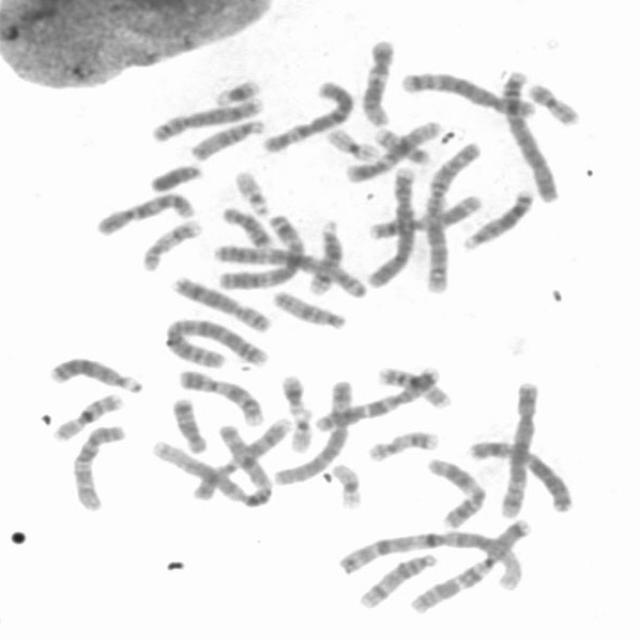A1: (333, 523, 529, 593), (146, 415, 284, 509)
A2: (419, 136, 485, 294), (158, 313, 272, 369)
A3: (211, 241, 370, 301), (213, 206, 307, 291)
B4: (497, 66, 563, 203), (362, 160, 418, 289)
B5: (396, 65, 538, 118), (496, 376, 544, 520)
C10: (66, 418, 128, 514), (91, 187, 198, 237)
C11: (362, 188, 485, 240), (423, 453, 491, 530)
C12: (339, 116, 443, 184), (355, 34, 397, 128)
C6: (268, 375, 356, 487), (257, 75, 357, 154)
C7: (404, 514, 534, 616), (310, 363, 443, 432)
C8: (167, 270, 274, 333), (146, 92, 266, 143)
C9: (186, 415, 294, 503), (174, 364, 266, 426)
D13: (458, 184, 535, 252), (45, 351, 144, 395)
D14: (353, 549, 440, 610), (303, 215, 344, 296)
D15: (185, 114, 268, 162), (267, 286, 349, 331)
E16: (48, 388, 126, 442), (372, 362, 454, 410)
E17: (137, 214, 204, 273), (362, 425, 442, 463)
E18: (217, 200, 276, 250), (166, 392, 211, 454)
F19: (321, 123, 381, 162), (326, 458, 365, 510)
F20: (524, 77, 584, 126), (370, 125, 432, 165)
G21: (209, 73, 263, 108), (276, 369, 310, 416)
G22: (230, 165, 274, 216), (286, 403, 317, 454)
X: (464, 436, 579, 514)
Y: (146, 159, 206, 193)
